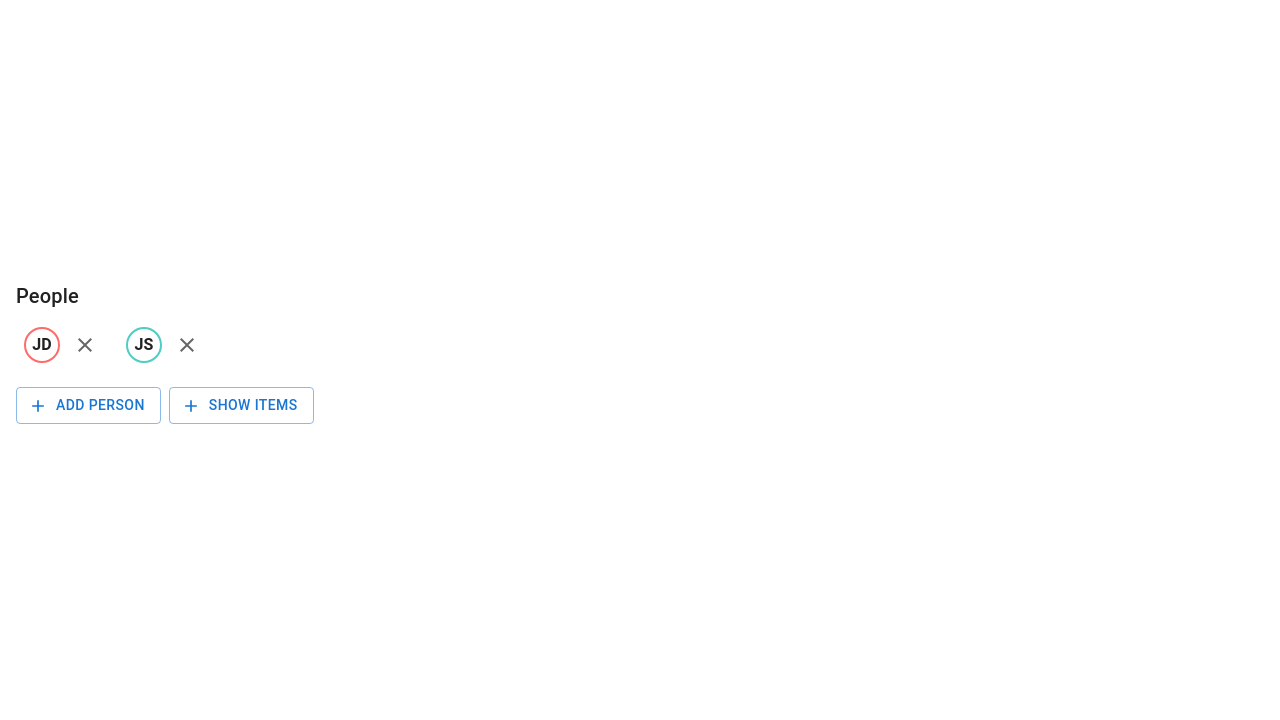
Test case: UserAssignment › validates duplicate names
// Open dialog
Click the button "Add Person". click: (88, 406)
box: x1=16 y1=387 x2=161 y2=424
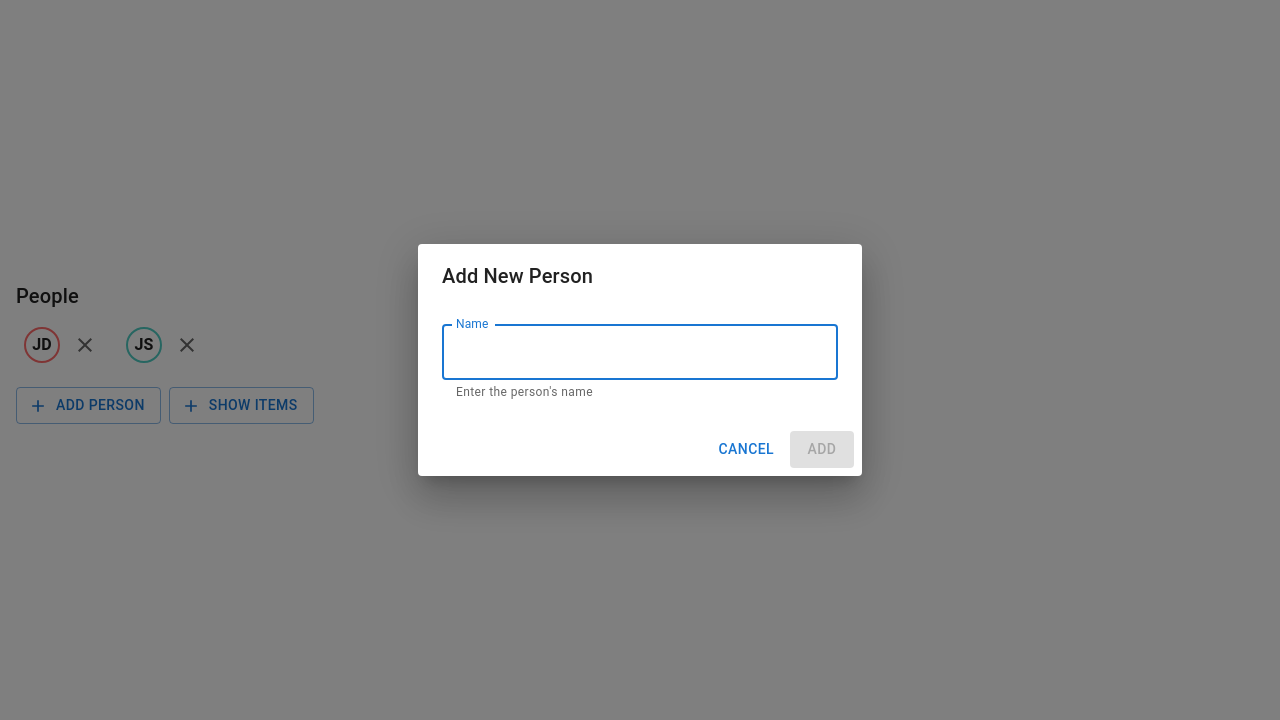
// Try to add existing name
Type "John Doe" into the field labelled "Name". click: (640, 352)
box: x1=442 y1=324 x2=838 y2=380
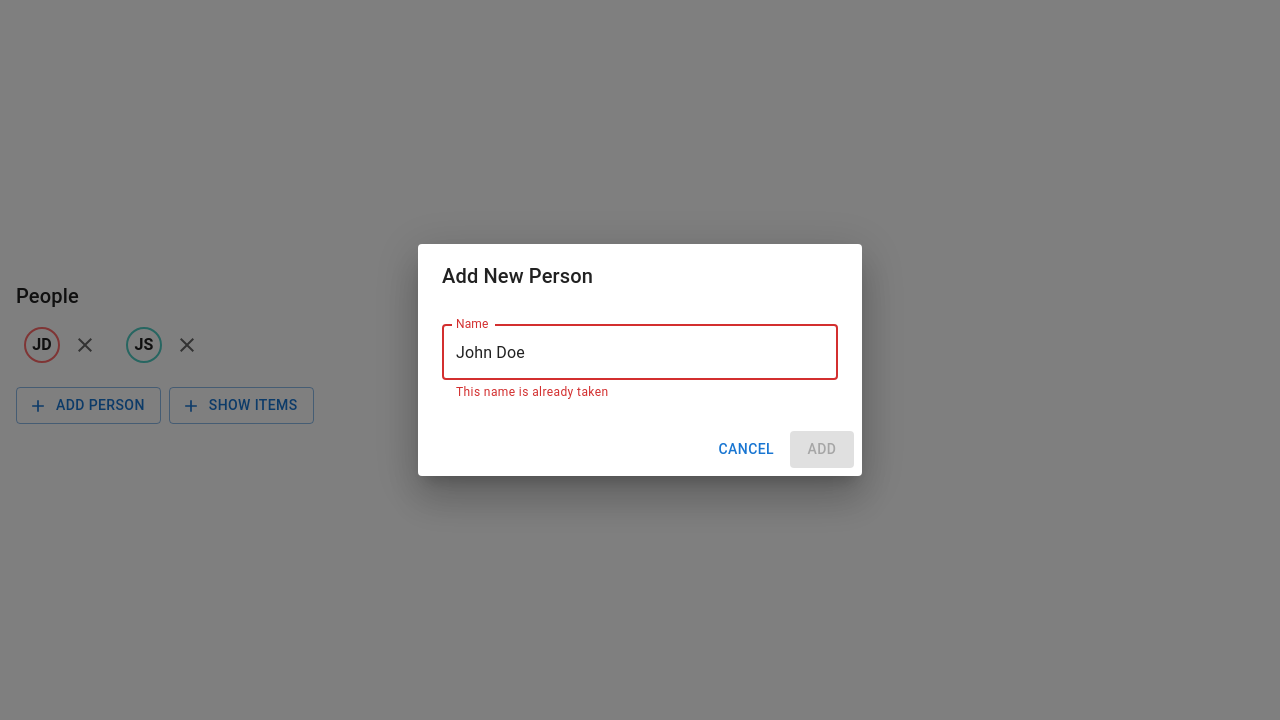
Expected: the button "Add" is disabled, x1=790 y1=431 x2=854 y2=468
Expected: the text "This name is already taken" is shown, x1=456 y1=385 x2=608 y2=399
